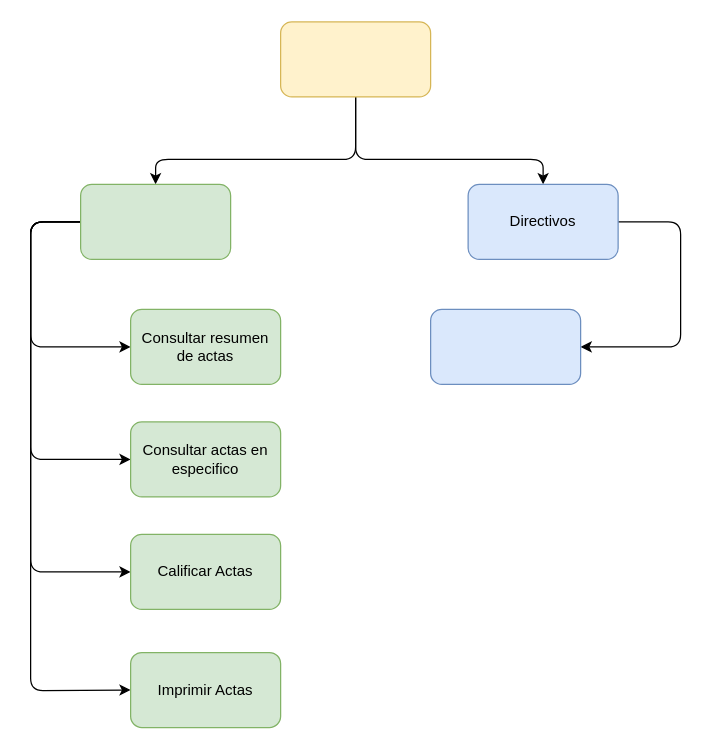
This 713x750 diagram has some shape labels left out. The centre of each missing label's shape, as x and y in pixels:
Dar su Vo.Bo a las actas: the point at 505,346
Iniciar/Cerrar Sesión: the point at 355,59
Profesores: the point at 155,221
